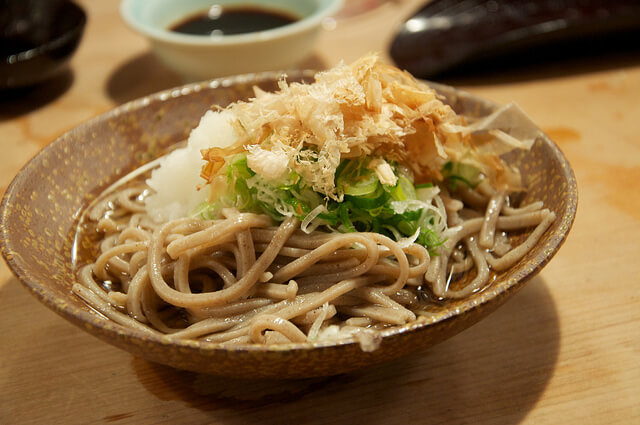Soba: (85, 190, 559, 354)
